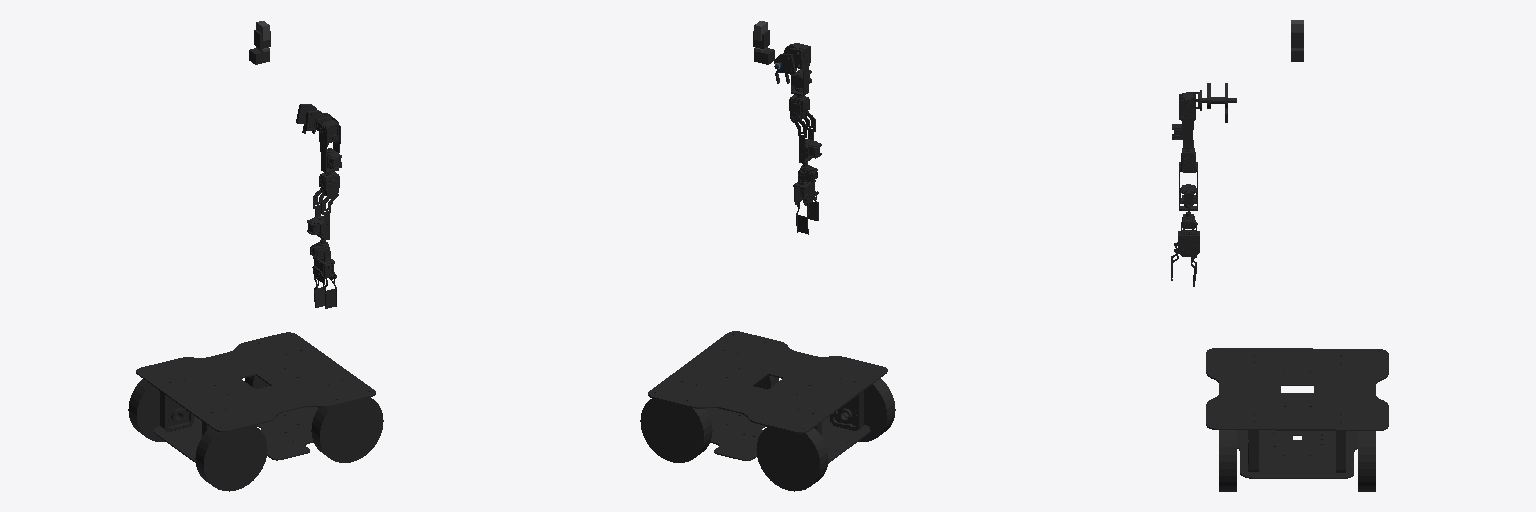
URDF robot description (donaxi):
<?xml version="1.0" ?>
<!-- =================================================================================== -->
<!-- |    This document was autogenerated by xacro from donaxi_urdf.xacro              | -->
<!-- |    EDITING THIS FILE BY HAND IS NOT RECOMMENDED                                 | -->
<!-- =================================================================================== -->
<robot name="donaxi" xmlns:xacro="http://ros.org/wiki/xacro">
  <!-- Define a number of dimensions using properties -->
  <!-- Include all component files -->
  <material name="Black">
    <color rgba="0.2 0.2 0.2 1.0"/>
  </material>
  <material name="TransparentBlack">
    <color rgba="0.2 0.2 0.2 0.8"/>
  </material>
  <material name="Orange">
    <color rgba="1.0  0.55 0.0 1.0"/>
  </material>
  <material name="Grey">
    <color rgba="0.7 0.7 0.7 1.0"/>
  </material>
  <material name="DarkGrey">
    <color rgba="0.3 0.3 0.3 1.0"/>
  </material>
  <material name="Red">
    <color rgba="0.8 0.0 0.0 1.0"/>
  </material>
  <material name="White">
    <color rgba="1.0 1.0 1.0 1.0"/>
  </material>
  <material name="OffWhite">
    <color rgba="0.8 0.8 0.8 1.0"/>
  </material>
  <material name="Blue">
    <color rgba="0.0 0.0 0.8 1.0"/>
  </material>
  <material name="Green">
    <color rgba="0.0 0.8 0.0 1.0"/>
  </material>
  <material name="TransparentGreen">
    <color rgba="0.0 0.8 0.0 0.5"/>
  </material>
  <link name="base_footprint">
    <visual>
      <origin rpy="0 0 0" xyz="0 0 0"/>
      <geometry>
        <box size="0.05 0.05 0.001"/>
      </geometry>
      <material name="TransparentGreen"/>
    </visual>
  </link>
  <joint name="base_joint" type="fixed">
    <origin rpy="0 0 0" xyz="0 0 0.13425"/>
    <parent link="base_footprint"/>
    <child link="base_link"/>
  </joint>
  <joint name="base_l_wheel_joint" type="continuous">
    <axis xyz="0 0 1"/>
    <limit effort="100" velocity="100"/>
    <safety_controller k_velocity="10"/>
    <origin rpy="1.570795 0 0" xyz="0.2 0.2 -0.03207"/>
    <parent link="base_link"/>
    <child link="base_l_wheel_link"/>
  </joint>
  <link name="base_l_wheel_link">
    <visual>
      <origin rpy="0 0 0" xyz="0 0 0"/>
      <geometry>
        <cylinder length="0.05" radius="0.11"/>
      </geometry>
      <material name="Black"/>
    </visual>
  </link>
  <joint name="base_r_wheel_joint" type="continuous">
    <axis xyz="0 0 1"/>
    <limit effort="100" velocity="100"/>
    <safety_controller k_velocity="10"/>
    <origin rpy="-1.570795 0 0" xyz="0.2 -0.2 -0.03207"/>
    <parent link="base_link"/>
    <child link="base_r_wheel_link"/>
  </joint>
  <link name="base_r_wheel_link">
    <visual>
      <origin rpy="0 0 0" xyz="0 0 0"/>
      <geometry>
        <cylinder length="0.05" radius="0.11"/>
      </geometry>
      <material name="Black"/>
    </visual>
  </link>
  <joint name="base_l2_wheel2_joint" type="continuous">
    <axis xyz="0 0 1"/>
    <limit effort="100" velocity="100"/>
    <safety_controller k_velocity="10"/>
    <origin rpy="1.570795 0 0" xyz="-0.2 0.2 -0.03207"/>
    <parent link="base_link"/>
    <child link="base_l2_wheel2_link"/>
  </joint>
  <link name="base_l2_wheel2_link">
    <visual>
      <origin rpy="0 0 0" xyz="0 0 0"/>
      <geometry>
        <cylinder length="0.05" radius="0.11"/>
      </geometry>
      <material name="Black"/>
    </visual>
  </link>
  <joint name="base_r2_wheel2_joint" type="continuous">
    <axis xyz="0 0 1"/>
    <limit effort="100" velocity="100"/>
    <safety_controller k_velocity="10"/>
    <origin rpy="-1.570795 0 0" xyz="-0.2 -0.2 -0.03207"/>
    <parent link="base_link"/>
    <child link="base_r2_wheel2_link"/>
  </joint>
  <link name="base_r2_wheel2_link">
    <visual>
      <origin rpy="0 0 0" xyz="0 0 0"/>
      <geometry>
        <cylinder length="0.05" radius="0.11"/>
      </geometry>
      <material name="Black"/>
    </visual>
  </link>
  <!-- Add the base and wheels -->
  <link name="base_link">
    <visual>
      <origin rpy="0 0 1.570795 " xyz="0 0 0"/>
      <geometry>
        <mesh filename="package://donaxi_description/meshes/Base.stl" scale="0.001 0.001 0.001"/>
      </geometry>
      <material name="Black"/>
    </visual>
    <collision>
      <origin rpy="0 0 0" xyz="0 0 0"/>
      <geometry>
        <box size="0.7 0.45 0.1585"/>
      </geometry>
    </collision>
  </link>
  <!-- Add the riel -->
  <joint name="base_riel_joint" type="fixed">
    <origin rpy="0 0 0" xyz="0.0 0.0 0.53"/>
    <parent link="base_link"/>
    <child link="riel_link"/>
  </joint>
  <link name="riel_link">
    <visual>
      <origin rpy="0 0 -1.570795" xyz="0 0 0"/>
      <geometry>
        <mesh filename="package://donaxi_description/meshes/Riel_FA.stl" scale="1 1 1"/>
      </geometry>
      <material name="Black"/>
    </visual>
    <collision>
      <origin rpy="0 0 0" xyz="0 0 0"/>
      <geometry>
        <box size="0.025 0.025 0.885"/>
      </geometry>
    </collision>
  </link>
  <!-- Add the central frame -->
  <joint name="riel_central_frame_joint" type="prismatic">
    <limit effort="1000.0" lower="-0.5" upper="0.05" velocity="0.1"/>
    <axis xyz="0 0 1"/>
    <origin rpy="0 0 0" xyz="0.04 -0.24 0.35"/>
    <parent link="riel_link"/>
    <child link="central_frame_link"/>
  </joint>
  <link name="central_frame_link">
    <visual>
      <origin rpy="0 0 1.570795" xyz="0 0 0"/>
      <geometry>
        <mesh filename="package://donaxi_description/meshes/Central_Frame.stl" scale="1 1 1"/>
      </geometry>
      <material name="DarkGrey"/>
    </visual>
    <collision>
      <origin rpy="0 0 0" xyz="-0.01 0.24 0.115"/>
      <geometry>
        <box size="0.02 0.48 0.23"/>
      </geometry>
    </collision>
  </link>
  <!-- Add the kinect camera -->
  <joint name="central_frame_kinect_joint" type="fixed">
    <origin rpy="0 0 0" xyz="-0.01 0.23 0.033"/>
    <parent link="central_frame_link"/>
    <child link="kinect_link"/>
  </joint>
  <link name="kinect_link">
    <visual>
      <origin rpy="0 0 -1.570795" xyz="0.0 0 0"/>
      <geometry>
        <mesh filename="package://donaxi_description/meshes/Kinect.stl" scale="1 1 1"/>
      </geometry>
      <material name="DarkGrey"/>
    </visual>
    <collision>
      <origin rpy="0 0 -1.570795" xyz="0 0.0 0.0"/>
      <geometry>
        <box size="0.3 0.1 0.08"/>
      </geometry>
    </collision>
  </link>
  <joint name="kinect_depth_joint" type="fixed">
    <origin rpy="0 1.570795 0" xyz="0.09198 0.0 0.04319"/>
    <parent link="kinect_link"/>
    <child link="kinect_depth_frame"/>
  </joint>
  <link name="kinect_depth_frame">
    <inertial>
      <mass value="0.000001"/>
      <origin xyz="0 0 0"/>
      <inertia ixx="0.0001" ixy="0.0" ixz="0.0" iyy="0.0001" iyz="0.0" izz="0.0001"/>
    </inertial>
  </link>
  <!-- Add the neck and the head -->
  <joint name="head_base_joint" type="fixed">
    <origin rpy="0 0 3.14159" xyz="0.0 0.0 0.60325"/>
    <parent link="riel_link"/>
    <child link="head_base_link"/>
  </joint>
  <link name="head_base_link">
    <origin rpy="0 0 0" xyz="0 0 0"/>
    <inertial>
      <mass value="0.00001"/>
      <inertia ixx="1.0" ixy="0.0" ixz="0.0" iyy="1.0" iyz="0.0" izz="1.0"/>
    </inertial>
    <visual>
      <origin rpy="0 0 0" xyz="0 0 0 "/>
      <geometry>
        <cylinder length="0.00001" radius="0.01"/>
      </geometry>
    </visual>
    <collision>
      <origin rpy="0 0 0" xyz="0 0 0 "/>
      <geometry>
        <cylinder length="0.00001" radius="0.01"/>
      </geometry>
    </collision>
  </link>
  <joint name="head_pan_servo_joint" type="fixed">
    <origin rpy="1.570795 0 -1.570795" xyz="-0.012 0 0.0175"/>
    <parent link="head_base_link"/>
    <child link="head_pan_servo_link"/>
  </joint>
  <link name="head_pan_servo_link">
    <inertial>
      <mass value="0.00001"/>
      <origin xyz="0 0 0"/>
      <inertia ixx="1.0" ixy="0.0" ixz="0.0" iyy="1.0" iyz="0.0" izz="1.0"/>
    </inertial>
    <visual>
      <origin rpy="0 0 0" xyz="0 0 0"/>
      <geometry>
        <box size="0.0385 0.035 0.049"/>
      </geometry>
      <material name="Black"/>
    </visual>
    <collision>
      <origin rpy="0 0 0" xyz="0 0 -0.01241"/>
      <geometry>
        <box size="0.0385 0.035 0.049"/>
      </geometry>
    </collision>
  </link>
  <joint name="head_pan_joint" type="revolute">
    <origin rpy="-1.570795 1.570795 3.14159" xyz="0 0.0225 0.012"/>
    <axis xyz="0 0 -1"/>
    <parent link="head_pan_servo_link"/>
    <limit effort="1.0" lower="-2.53" upper="2.53" velocity="1.571"/>
    <child link="head_pan_bracket_link"/>
  </joint>
  <link name="head_pan_bracket_link">
    <inertial>
      <mass value="0.00001"/>
      <origin xyz="0 0 0"/>
      <inertia ixx="1.0" ixy="0.0" ixz="0.0" iyy="1.0" iyz="0.0" izz="1.0"/>
    </inertial>
    <visual>
      <origin rpy="0 0 0" xyz="0 0 0 "/>
      <geometry>
        <box size="0.025 0.038 0.009"/>
      </geometry>
      <material name="DarkGrey"/>
    </visual>
    <collision>
      <origin rpy="0 0 0" xyz="0 0 0"/>
      <geometry>
        <box size="0.025 0.038 0.009"/>
      </geometry>
    </collision>
  </link>
  <joint name="head_tilt_servo_joint" type="fixed">
    <origin rpy="0 3.14159 0" xyz="0 0 -0.031"/>
    <parent link="head_pan_bracket_link"/>
    <child link="head_tilt_servo_link"/>
  </joint>
  <link name="head_tilt_servo_link">
    <inertial>
      <mass value="0.00001"/>
      <origin xyz="0 0 0"/>
      <inertia ixx="1.0" ixy="0.0" ixz="0.0" iyy="1.0" iyz="0.0" izz="1.0"/>
    </inertial>
    <visual>
      <origin rpy="0 0 0" xyz="0 0 0"/>
      <geometry>
        <box size="0.0385 0.035 0.049"/>
      </geometry>
      <material name="Black"/>
    </visual>
    <collision>
      <origin rpy="0 0 0" xyz="0 0 -0.01241"/>
      <geometry>
        <box size="0.0385 0.035 0.049"/>
      </geometry>
    </collision>
  </link>
  <joint name="head_tilt_joint" type="revolute">
    <origin rpy="0 0 0" xyz="0 0 0.025"/>
    <axis xyz="0 1 0"/>
    <parent link="head_tilt_servo_link"/>
    <limit effort="1.0" lower="-2.53" upper="2.53" velocity="1.571"/>
    <child link="head_tilt_bracket_link"/>
  </joint>
  <link name="head_tilt_bracket_link">
    <inertial>
      <mass value="0.00001"/>
      <origin xyz="0 0 0"/>
      <inertia ixx="1.0" ixy="0.0" ixz="0.0" iyy="1.0" iyz="0.0" izz="1.0"/>
    </inertial>
    <visual>
      <origin rpy="0 0 0" xyz="0 0 0 "/>
      <geometry>
        <box size="0.0245 0.038 0.048"/>
      </geometry>
      <material name="DarkGrey"/>
    </visual>
    <collision>
      <origin rpy="0 0 0" xyz="0 0 0"/>
      <geometry>
        <box size="0.0245 0.038 0.048"/>
      </geometry>
    </collision>
  </link>
  <joint name="head_tilt_bracket_kinect_top_joint" type="fixed">
    <origin rpy="0 0 0" xyz="0.0 0.0 0.0345"/>
    <parent link="head_tilt_bracket_link"/>
    <child link="kinect_top_link"/>
  </joint>
  <link name="kinect_top_link">
    <visual>
      <origin rpy="0 0 -1.570795" xyz="0.0 0 0"/>
      <geometry>
        <mesh filename="package://donaxi_description/meshes/Kinect.stl" scale="1 1 1"/>
      </geometry>
      <material name="DarkGrey"/>
    </visual>
    <collision>
      <origin rpy="0 0 -1.570795" xyz="0 0.0 0.0"/>
      <geometry>
        <box size="0.3 0.1 0.08"/>
      </geometry>
    </collision>
  </link>
  <joint name="kinect_top_depth_joint" type="fixed">
    <origin rpy="0 0 0" xyz="0.09198 0.0 0.04319"/>
    <parent link="kinect_top_link"/>
    <child link="kinect_top_depth_frame"/>
  </joint>
  <link name="kinect_top_depth_frame">
    <inertial>
      <mass value="0.000001"/>
      <origin xyz="0 0 0"/>
      <inertia ixx="0.0001" ixy="0.0" ixz="0.0" iyy="0.0001" iyz="0.0" izz="0.0001"/>
    </inertial>
  </link>
  <!-- Add the right arm -->
  <joint name="right_arm_base_joint" type="fixed">
    <origin rpy="1.570795 3.14159 0" xyz="-0.07184 -0.17402 -0.04902"/>
    <parent link="kinect_depth_frame"/>
    <child link="right_arm_base_link"/>
  </joint>
  <link name="right_arm_base_link">
    <origin rpy="0 0 0" xyz="0 0 0"/>
    <inertial>
      <mass value="0.00001"/>
      <inertia ixx="1.0" ixy="0.0" ixz="0.0" iyy="1.0" iyz="0.0" izz="1.0"/>
    </inertial>
    <visual>
      <origin rpy="0 0 0" xyz="0 0 0 "/>
      <geometry>
        <cylinder length="0.00001" radius="0.01"/>
      </geometry>
    </visual>
    <collision>
      <origin rpy="0 0 0" xyz="0 0 0 "/>
      <geometry>
        <cylinder length="0.00001" radius="0.01"/>
      </geometry>
    </collision>
  </link>
  <joint name="servo_1_joint" type="fixed">
    <origin rpy="0 0 0" xyz="0 0 0"/>
    <parent link="right_arm_base_link"/>
    <child link="servo_1_link"/>
  </joint>
  <link name="servo_1_link">
    <inertial>
      <mass value="0.00001"/>
      <origin xyz="0 0 0"/>
      <inertia ixx="1.0" ixy="0.0" ixz="0.0" iyy="1.0" iyz="0.0" izz="1.0"/>
    </inertial>
    <visual>
      <origin rpy="0 0 3.14159" xyz="0.0196 0.0506 -0.046"/>
      <geometry>
        <mesh filename="package://donaxi_description/meshes/EX106.stl" scale="1 1 1"/>
      </geometry>
      <material name="Black"/>
    </visual>
    <collision>
      <origin rpy="0 0 0" xyz="0.0196 0.0506 -0.046"/>
      <geometry>
        <box size="0.046 0.0392 0.0651"/>
      </geometry>
    </collision>
  </link>
  <joint name="link_1_joint" type="revolute">
    <axis xyz="0 0 -1"/>
    <origin rpy="3.14159 0 1.570795" xyz="0 0 -0.01"/>
    <limit effort="1.0" lower="-1.5" upper="1.0" velocity="3.14"/>
    <parent link="servo_1_link"/>
    <child link="link_1_link"/>
  </joint>
  <link name="link_1_link">
    <visual>
      <origin rpy="0 0 0" xyz="0 0 0 "/>
      <geometry>
        <mesh filename="package://donaxi_description/meshes/Axis.stl" scale="1 1 1"/>
      </geometry>
      <material name="Black"/>
    </visual>
  </link>
  <joint name="servo_2_joint" type="revolute">
    <origin rpy="0 0 0" xyz="0 0 -0.141"/>
    <axis xyz="1 0 0"/>
    <limit effort="1.0" lower="-0.18" upper="1.0" velocity="3.14"/>
    <parent link="link_1_link"/>
    <child link="servo_2_link"/>
  </joint>
  <link name="servo_2_link">
    <inertial>
      <mass value="0.00001"/>
      <origin xyz="0 0 0"/>
      <inertia ixx="1.0" ixy="0.0" ixz="0.0" iyy="1.0" iyz="0.0" izz="1.0"/>
    </inertial>
    <visual>
      <origin rpy="0 1.570795 0" xyz="-0.0246 -0.0506 0.0195"/>
      <geometry>
        <mesh filename="package://donaxi_description/meshes/EX106_1.stl" scale="1 1 1"/>
      </geometry>
      <material name="Black"/>
    </visual>
    <collision>
      <origin rpy="0 0 0" xyz="0.0196 0.0506 -0.046"/>
      <geometry>
        <box size="0.046 0.0392 0.0651"/>
      </geometry>
    </collision>
  </link>
  <joint name="servo_3_joint" type="fixed">
    <origin rpy="1.570795 0 0" xyz="0.0 -0.1263 0.0015"/>
    <parent link="servo_2_link"/>
    <child link="servo_3_link"/>
  </joint>
  <link name="servo_3_link">
    <inertial>
      <mass value="0.00001"/>
      <origin xyz="0 0 0"/>
      <inertia ixx="1.0" ixy="0.0" ixz="0.0" iyy="1.0" iyz="0.0" izz="1.0"/>
    </inertial>
    <visual>
      <origin rpy="0 0 1.570795" xyz="0 0 0"/>
      <geometry>
        <mesh filename="package://donaxi_description/meshes/Arm1.stl" scale="1 1 1"/>
      </geometry>
      <material name="Black"/>
    </visual>
    <collision>
      <origin rpy="0 0 0" xyz="0 0 0"/>
      <geometry>
        <box size="0.046 0.0392 0.0651"/>
      </geometry>
    </collision>
  </link>
  <joint name="servo_4_joint" type="revolute">
    <axis xyz="0 0 1"/>
    <origin rpy="0 0 0" xyz="0 0 0"/>
    <limit effort="1.0" lower="-1.5" upper="1.0" velocity="3.14"/>
    <parent link="servo_3_link"/>
    <child link="servo_4_link"/>
  </joint>
  <link name="servo_4_link">
    <visual>
      <origin rpy="0 0 1.570795" xyz="0 0 0 "/>
      <geometry>
        <mesh filename="package://donaxi_description/meshes/Arm2.stl" scale="1 1 1"/>
      </geometry>
      <material name="Black"/>
    </visual>
  </link>
  <joint name="servo_5_joint" type="revolute">
    <axis xyz="0 0 1"/>
    <origin rpy="1.570795 0 0" xyz="-0.0005 0.0275 0.0855863958"/>
    <limit effort="1.0" lower="-1.5" upper="1.0" velocity="3.14"/>
    <parent link="servo_4_link"/>
    <child link="servo_5_link"/>
  </joint>
  <link name="servo_5_link">
    <visual>
      <origin rpy="0 3.14159 -1.570795" xyz="0 0 0"/>
      <geometry>
        <mesh filename="package://donaxi_description/meshes/Arm_3.stl" scale="1 1 1"/>
      </geometry>
      <material name="Black"/>
    </visual>
  </link>
  <joint name="servo_6_joint" type="revolute">
    <axis xyz="0 0 -1"/>
    <origin rpy="1.570795 0 0" xyz="0.02319786258 0.16779239490 0.027"/>
    <limit effort="1.0" lower="-1.5" upper="1.0" velocity="3.14"/>
    <parent link="servo_5_link"/>
    <child link="servo_6_link"/>
  </joint>
  <link name="servo_6_link">
    <visual>
      <origin rpy="0 0 3.14159" xyz="0 0 0 "/>
      <geometry>
        <mesh filename="package://donaxi_description/meshes/wrist.stl" scale="1 1 1"/>
      </geometry>
      <material name="Black"/>
    </visual>
  </link>
  <joint name="gripper_joint" type="revolute">
    <axis xyz="0 0 -1"/>
    <origin rpy="1.570795 0 0" xyz="-0.004 0.02125 -0.021"/>
    <limit effort="1.0" lower="-1.5" upper="1.0" velocity="3.14"/>
    <parent link="servo_6_link"/>
    <child link="gripper_link"/>
  </joint>
  <link name="gripper_link">
    <visual>
      <origin rpy="0 3.14159 0" xyz="0 0 0"/>
      <geometry>
        <mesh filename="package://donaxi_description/meshes/gripper.stl" scale="1 1 1"/>
      </geometry>
      <material name="Black"/>
    </visual>
  </link>
  <joint name="finger_joint" type="revolute">
    <axis xyz="0 0 -1"/>
    <origin rpy="0 -1.570795 0" xyz="-0.0192 -0.0707 0.0072"/>
    <limit effort="1.0" lower="-0.43" upper="1.0" velocity="3.14"/>
    <parent link="gripper_link"/>
    <child link="finger_link"/>
  </joint>
  <link name="finger_link">
    <visual>
      <origin rpy="0 0 0" xyz="0 0 0"/>
      <geometry>
        <mesh filename="package://donaxi_description/meshes/finger.stl" scale="1 1 1"/>
      </geometry>
      <material name="Black"/>
    </visual>
  </link>
  <joint name="virtual_joint" type="fixed">
    <axis xyz="0 0 1"/>
    <origin rpy="1.570795 -1.570795 -1.570795" xyz="0.0025 -0.15 0.02"/>
    <parent link="gripper_link"/>
    <child link="virtual_link"/>
  </joint>
  <link name="virtual_link">
    <visual>
      <origin rpy="0 0 1.570795" xyz="0 0 0"/>
      <geometry>
        <box size="0.001 0.0005 0.0005"/>
      </geometry>
    </visual>
  </link>
</robot>

--- Facts derived from the render (not from the file) ---
Views: 3 orthographic renders of the robot side by side, from view 1: azimuth 30°, elevation 25°; view 2: azimuth 150°, elevation 25°; view 3: azimuth 270°, elevation 25°.
Model donaxi with 28 links and 27 joints (9 revolute, 4 continuous, 1 prismatic, 13 fixed), rooted at base_footprint, posed all joints at 0.
Links seen in each view (by area): view 1: base_link, base_r2_wheel2_link, base_r_wheel_link, base_l2_wheel2_link, servo_5_link, gripper_link, link_1_link, servo_3_link; view 2: base_link, base_l2_wheel2_link, base_l_wheel_link, base_r2_wheel2_link, servo_5_link, link_1_link, gripper_link, servo_3_link; view 3: base_link, base_r_wheel_link, base_l_wheel_link, servo_3_link, gripper_link, link_1_link.
Link boxes in pixels (box(x1,y1,x2,y2)): base_link: box(136, 332, 375, 462); base_r2_wheel2_link: box(195, 426, 267, 491); base_r_wheel_link: box(311, 397, 383, 462); base_l2_wheel2_link: box(128, 369, 195, 441); servo_5_link: box(307, 188, 338, 240); gripper_link: box(312, 251, 334, 307); link_1_link: box(296, 104, 338, 133); servo_3_link: box(319, 125, 341, 173); base_link: box(648, 331, 887, 463); base_l2_wheel2_link: box(756, 418, 828, 491); base_l_wheel_link: box(640, 390, 712, 462); base_r2_wheel2_link: box(847, 378, 895, 441); servo_5_link: box(790, 111, 821, 163); link_1_link: box(774, 44, 807, 83); gripper_link: box(793, 174, 815, 234); servo_3_link: box(790, 46, 811, 96); base_link: box(1206, 348, 1388, 478); base_r_wheel_link: box(1219, 430, 1236, 491); base_l_wheel_link: box(1358, 418, 1375, 491); servo_3_link: box(1172, 94, 1195, 148); gripper_link: box(1178, 222, 1199, 286); link_1_link: box(1187, 83, 1236, 122).
Size in the robot's own frame: 0.62 by 0.6247 by 1.4 metres.
Meshes: 13 distinct files referenced, 9 mesh visuals loaded (9 binary STL); not drawn: 5 (reference not matched to a file when rendering).
